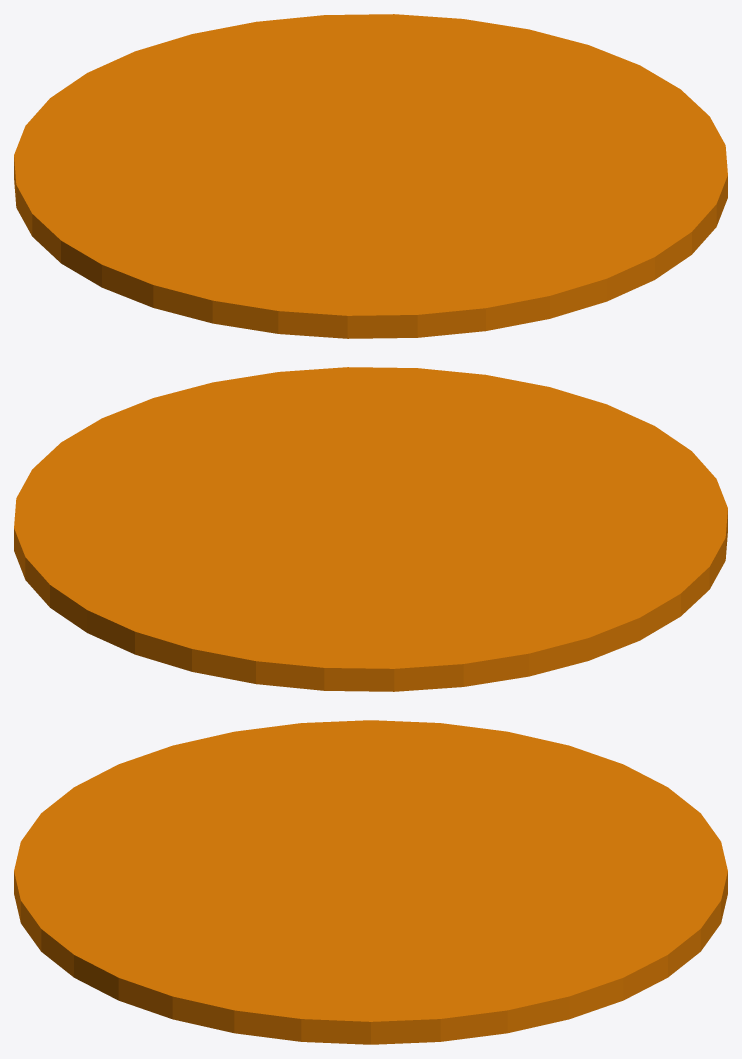
Rendered from planeStage.fbx.
3 renders of one model, top to bottom at view 1: azimuth 30°, elevation 25°; view 2: azimuth 150°, elevation 25°; view 3: azimuth 270°, elevation 25°, orthographic.
Visible parts, largest first — view 1: 円柱; view 2: 円柱; view 3: 円柱.
Boxes of the visible parts, bbox=[...] form: 円柱: bbox=[14, 14, 727, 338]; 円柱: bbox=[14, 367, 727, 691]; 円柱: bbox=[14, 720, 727, 1044].
Size of the model in its own units: 30 by 1.06 by 30.
